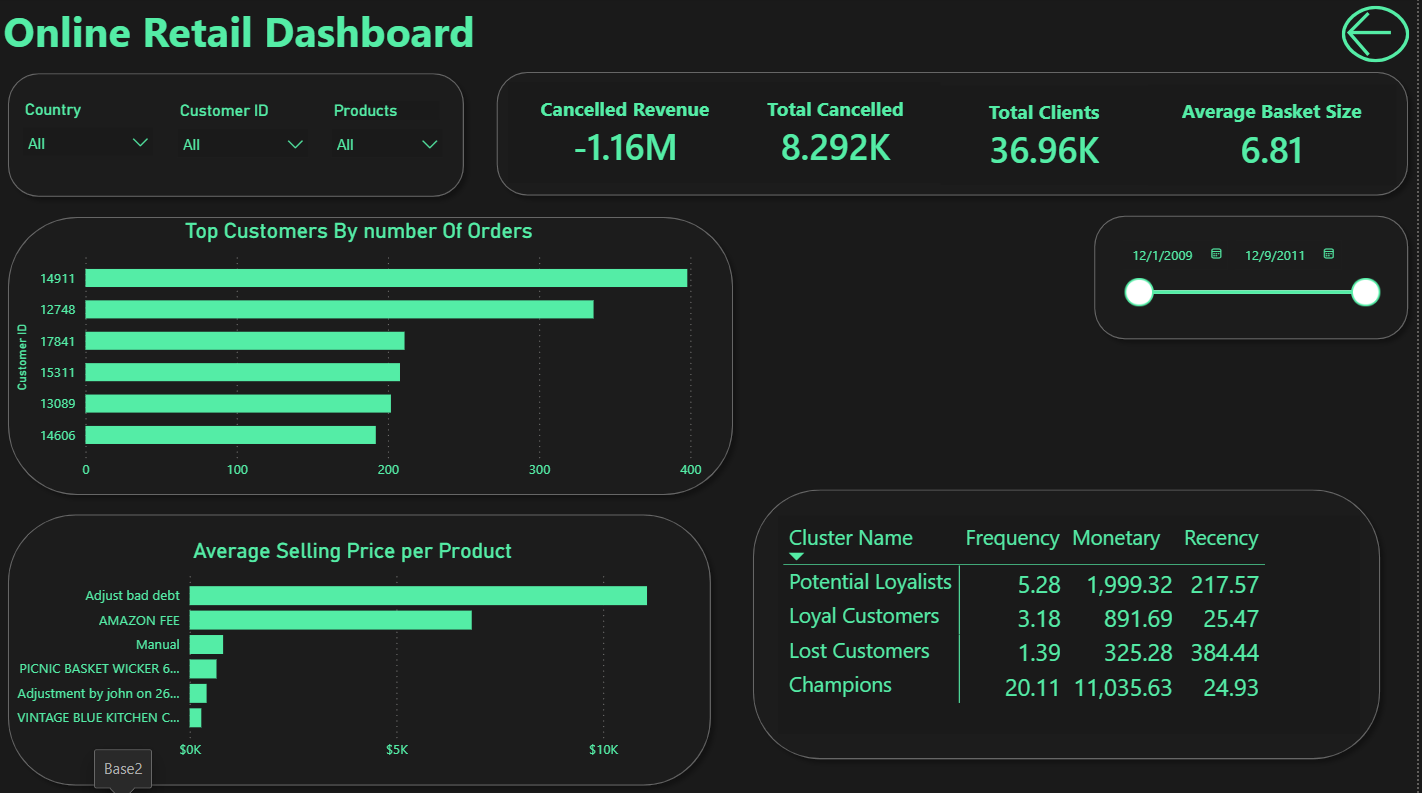

The dashboard page shown, as its layout file describes it:
{"tool":"powerbi","page":{"name":"Base2","canvas":[1280,720],"ordinal":1},"visuals":[{"type":"shape","box":[440.4,58.5,839.7,129.4],"z":0},{"type":"shape","box":[0,59.7,429.2,129.4],"z":0,"group":"g1"},{"type":"group","id":"g1","title":"Group 1","box":[0,59.7,1280,660.5],"z":1000},{"type":"shape","box":[979,187.8,301,129.4],"z":1000,"group":"g1"},{"type":"cardVisual","fields":{"Data":["CountNonNull(Retail.Customer ID)"]},"box":[849.6,79.6,187.8,89.6],"z":2000},{"type":"shape","box":[671.7,435.4,583.4,261.2],"z":2000,"group":"g1"},{"type":"shape","box":[0,189.1,671.7,268.7],"z":3000,"group":"g1"},{"type":"clusteredBarChart","title":"Top Customers By number Of Orders","fields":{"Y":["Count(Retail.Invoice)"],"Category":["Retail.Customer ID"]},"box":[11.2,199,628.2,245.1],"z":3000},{"type":"cardVisual","fields":{"Data":["Retail.Average Basket Size"]},"box":[1037.5,78.4,223.9,90.8],"z":4000},{"type":"shape","box":[0,457.8,651.8,262.5],"z":4000,"group":"g1"},{"type":"pivotTable","fields":{"Rows":["rfm_data.Cluster Name"],"Values":["Avg(rfm_data.Frequency)","Avg(rfm_data.Monetary)","Avg(rfm_data.Recency)"]},"box":[702.8,467.7,525,196.5],"z":5000},{"type":"clusteredBarChart","title":"Average Selling Price per Product","fields":{"Category":["Retail.Description"],"Y":["Avg(Retail.Price)"]},"box":[0,487.6,639.4,209],"z":6000},{"type":"slicer","fields":{"Values":["Retail.Country"]},"box":[11.2,88.3,139.3,69.7],"z":7000},{"type":"slicer","fields":{"Values":["Retail.Customer ID"]},"box":[150.5,89.6,139.3,69.7],"z":8000},{"type":"slicer","fields":{"Values":["Retail.Description"]},"box":[289.8,89.6,121.9,69.7],"z":9000},{"type":"textbox","box":[0,0,440.4,63.4],"z":10000},{"type":"cardVisual","fields":{"Data":["Count(Cancelled Invoices.Invoice)"]},"box":[661.8,77.1,187.8,90.8],"z":11000},{"type":"cardVisual","fields":{"Data":["Sum(Cancelled Invoices.Revenue)"]},"box":[460.3,77.1,211.5,90.8],"z":12000},{"type":"actionButton","box":[1211.6,7.5,61,51],"z":13000},{"type":"slicer","fields":{"Values":["Retail.InvoiceDate"]},"box":[1001.4,209,253.8,87.1],"z":14000}]}

Visuals, with their boxes in screenshot pixels (x1, y1, x2, y2), scaled from the page's 1280x720 canvas onto the 1422x793 screenshot:
shape: bbox(489, 64, 1421, 207)
shape: bbox(0, 66, 477, 208)
"Group 1" group: bbox(0, 66, 1421, 792)
shape: bbox(1088, 207, 1421, 349)
cardVisual - CountNonNull(Retail.Customer ID): bbox(944, 88, 1152, 186)
shape: bbox(746, 480, 1394, 767)
shape: bbox(0, 208, 746, 504)
"Top Customers By number Of Orders" clusteredBarChart: bbox(12, 219, 710, 489)
cardVisual - Retail.Average Basket Size: bbox(1153, 86, 1401, 186)
shape: bbox(0, 504, 724, 792)
pivotTable - rfm_data.Cluster Name x Avg(rfm_data.Frequency): bbox(781, 515, 1364, 732)
"Average Selling Price per Product" clusteredBarChart: bbox(0, 537, 710, 767)
slicer - Retail.Country: bbox(12, 97, 167, 174)
slicer - Retail.Customer ID: bbox(167, 99, 322, 175)
slicer - Retail.Description: bbox(322, 99, 457, 175)
textbox: bbox(0, 0, 489, 70)
cardVisual - Count(Cancelled Invoices.Invoice): bbox(735, 85, 944, 185)
cardVisual - Sum(Cancelled Invoices.Revenue): bbox(511, 85, 746, 185)
actionButton: bbox(1346, 8, 1414, 64)
slicer - Retail.InvoiceDate: bbox(1112, 230, 1394, 326)
